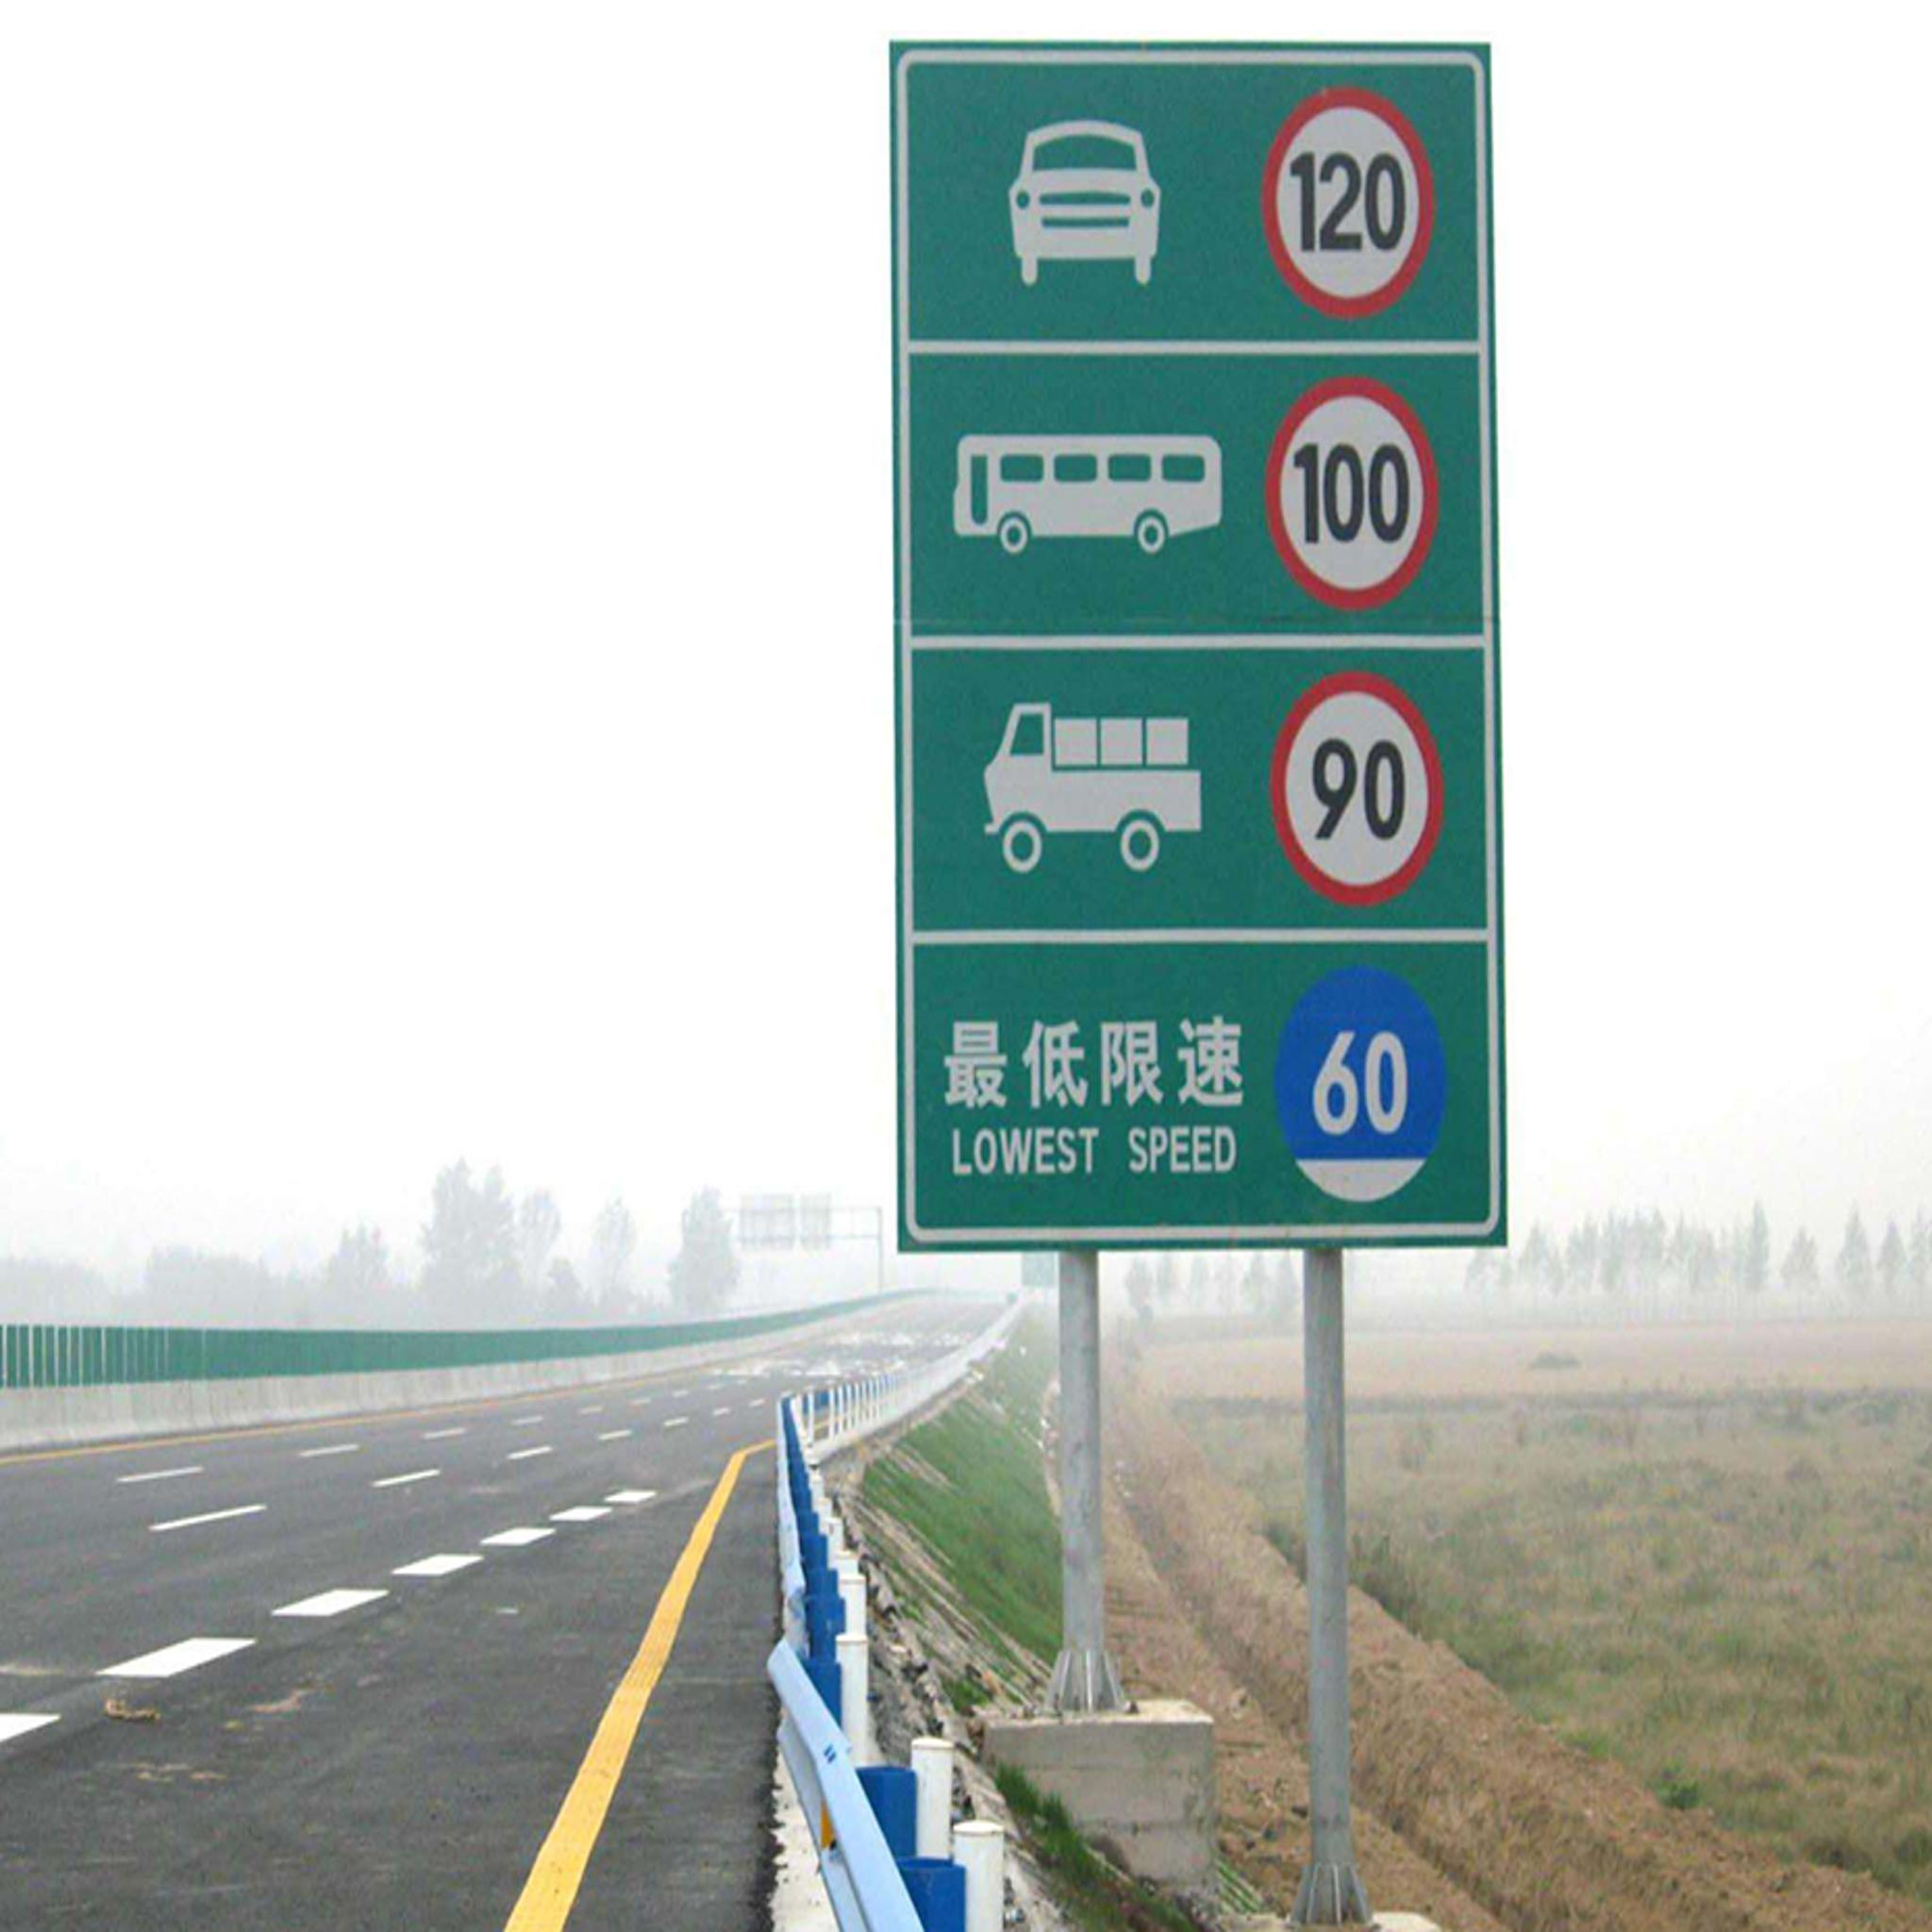il60: (1279, 966, 1451, 1203)
pl100: (1267, 379, 1435, 609)
pl120: (1263, 81, 1437, 322)
pl90: (1274, 672, 1442, 906)
